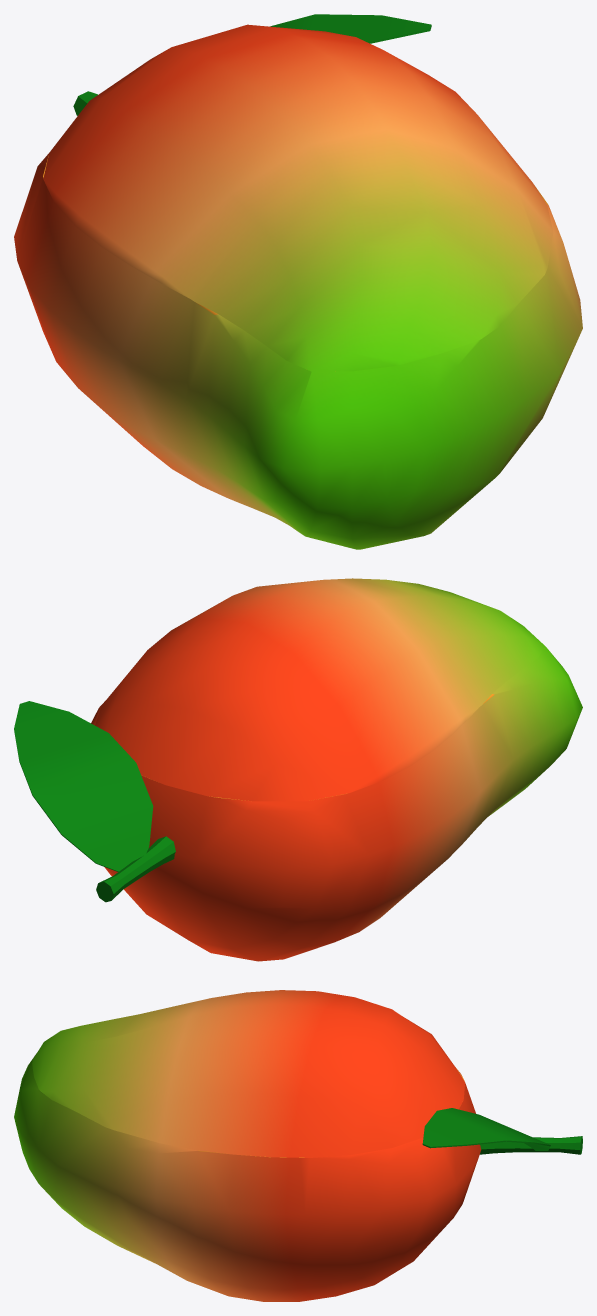
Rendered from Mango_With_Pieces.fbx.
The picture shows the model from 3 angles, top to bottom: view 1: azimuth 30°, elevation 25°; view 2: azimuth 150°, elevation 25°; view 3: azimuth 270°, elevation 25°; orthographic projection. The views are drawn at different scales.
Visible parts, largest first — view 1: Cut_Pieces, Mango; view 2: Mango, Cut_Pieces; view 3: Mango, Cut_Pieces.
Boxes of the visible parts, box(x1,y1,x2,y2) form: Cut_Pieces: box(43, 24, 553, 371); Mango: box(14, 14, 582, 549); Mango: box(14, 647, 582, 961); Cut_Pieces: box(95, 578, 545, 801); Mango: box(14, 1053, 582, 1301); Cut_Pieces: box(32, 990, 465, 1157).
Size of the model in its own units: 61.48 by 55.87 by 99.31.
Materials: 1 (1 with a texture image).
